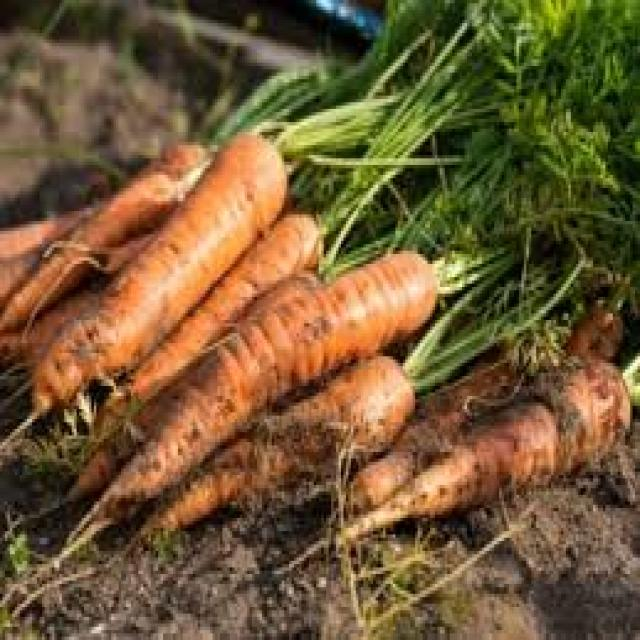Stale_Carrot: (103, 260, 434, 510), (281, 367, 630, 562), (136, 353, 424, 551)
